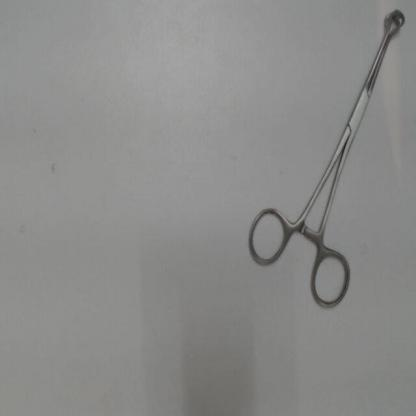Babcock Tissue Forceps: (244, 3, 407, 312)
